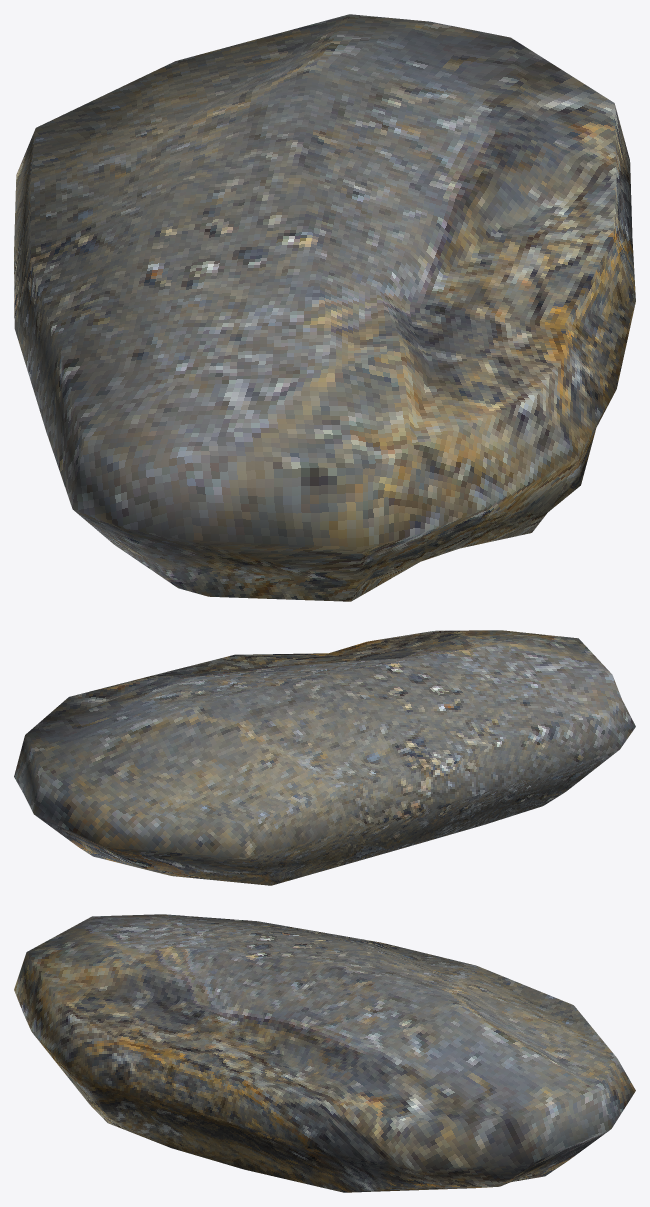
File: rock_01_small.glb
The picture shows the model from 3 angles, top to bottom: view 1: azimuth 30°, elevation 25°; view 2: azimuth 150°, elevation 25°; view 3: azimuth 270°, elevation 25°; orthographic projection. The views are drawn at different scales.
Visible parts, largest first — view 1: rock_01_small; view 2: rock_01_small; view 3: rock_01_small.
Boxes of the visible parts, left/top/right/bottom form: rock_01_small: left=14, top=14, right=635, bottom=601; rock_01_small: left=14, top=630, right=635, bottom=885; rock_01_small: left=14, top=914, right=635, bottom=1192.
Bounding box in the file's own units: 0.6887 × 0.2056 × 0.7997.
1 material, 1 textured.
